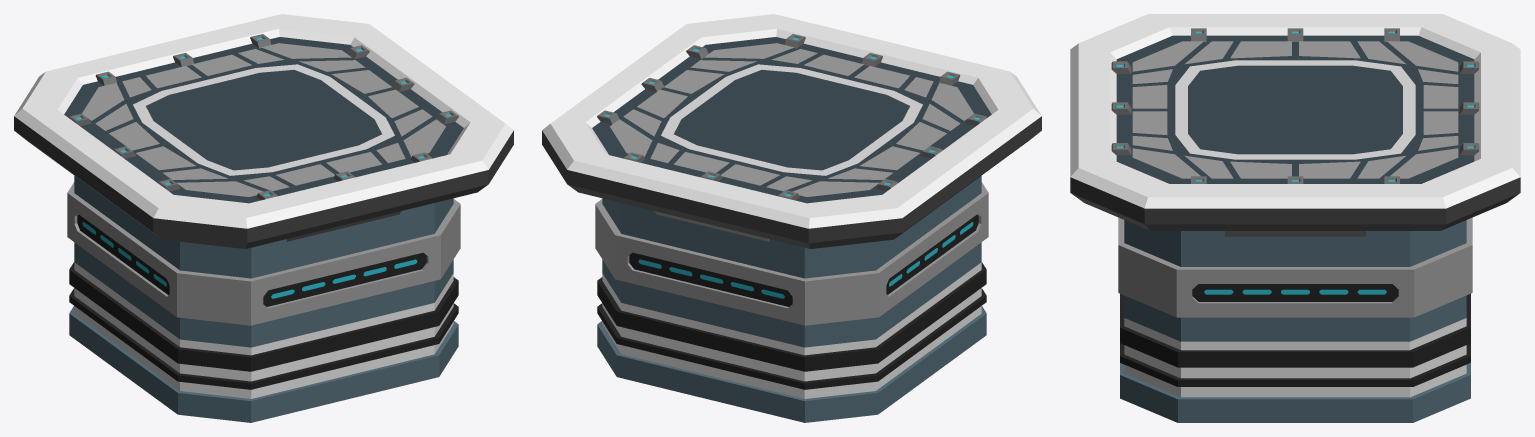
Rendered from platform_007.fbx.
3 views of the same model, side by side, from view 1: azimuth 30°, elevation 25°; view 2: azimuth 150°, elevation 25°; view 3: azimuth 270°, elevation 25° (orthographic). The views are drawn at different scales.
Visible parts, largest first — view 1: platform_007; view 2: platform_007; view 3: platform_007.
Boxes of the visible parts, box(x1,y1,x2,y2) form: platform_007: box(14, 14, 513, 422); platform_007: box(542, 14, 1041, 422); platform_007: box(1070, 14, 1520, 422).
Size of the model in its own units: 1147 by 1147 by 683.
